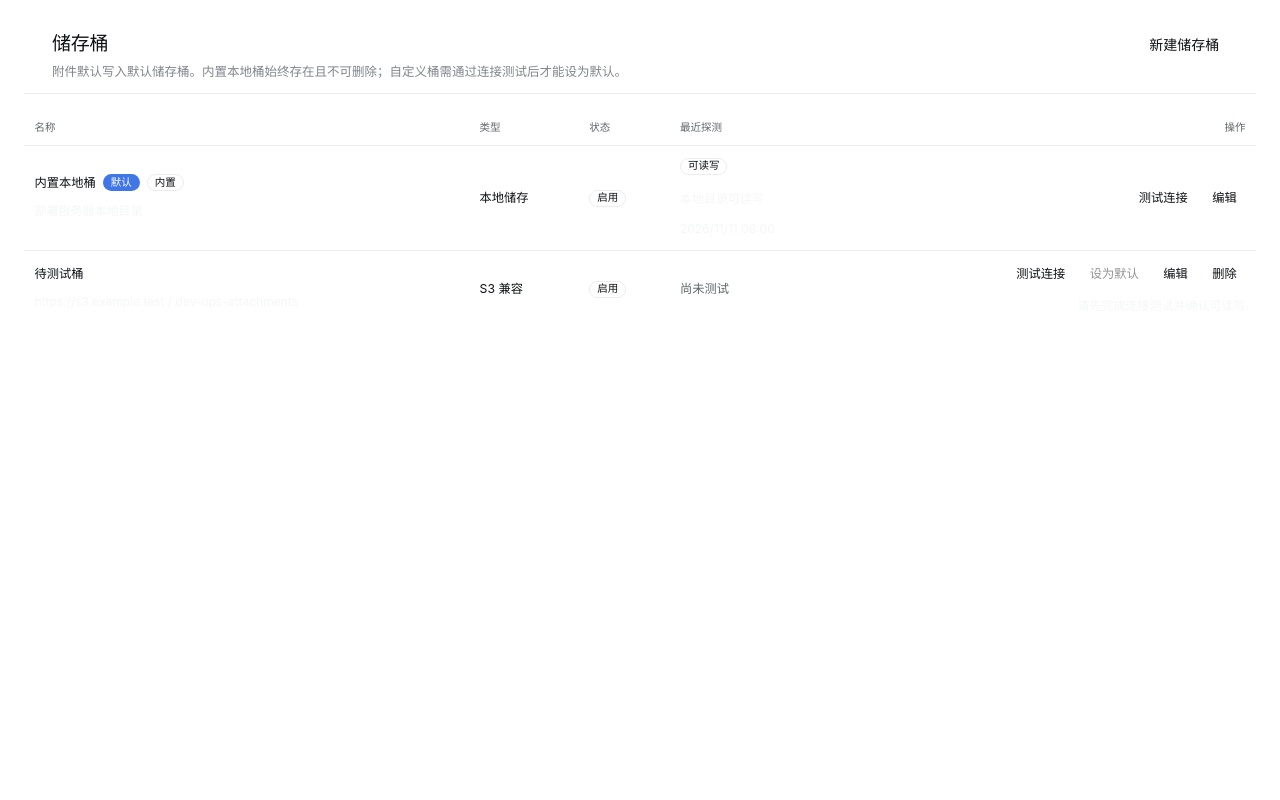
Test: StorageBucketManagement › 测试连接后展示结论并刷新列表
Step 1. Click the button "测试连接" in the row of "待测试桶" → (1041, 274), box [1008, 261, 1074, 286]
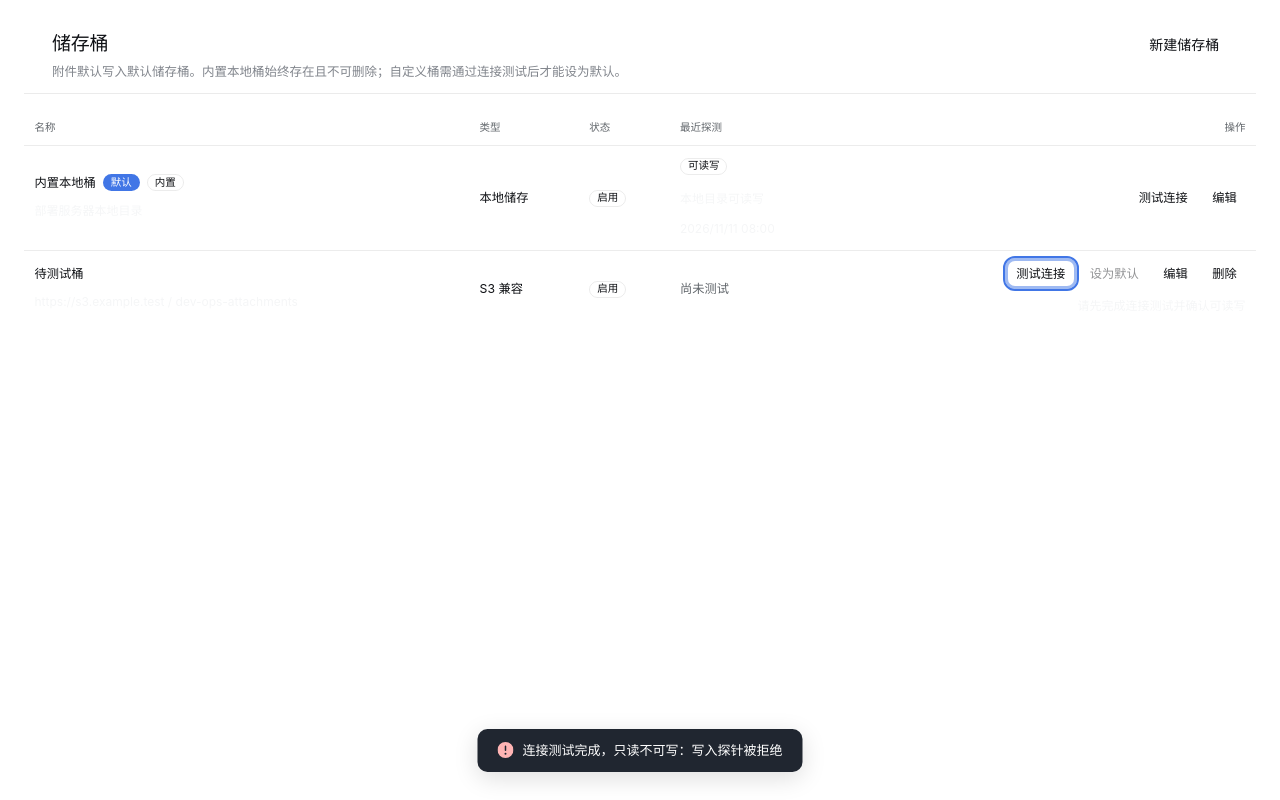
Expected: the text "连接测试完成，只读不可写：写入探针被拒绝" is shown, [522, 740, 782, 760]
